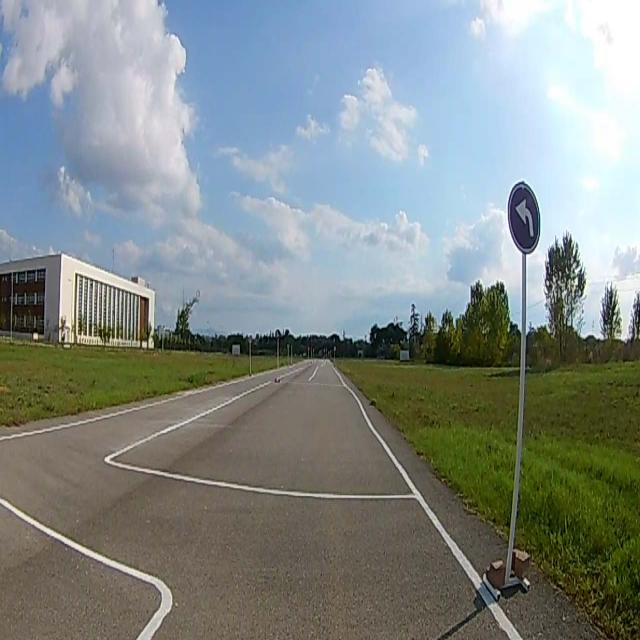sol: (509, 181, 539, 247)
